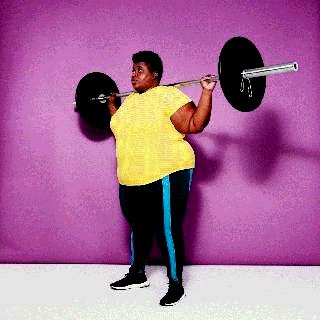Barbell: (288, 61, 297, 71)
